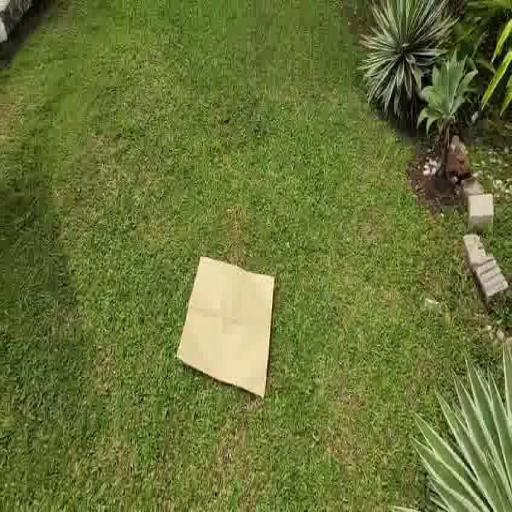landing_path: (174, 248, 278, 408)
